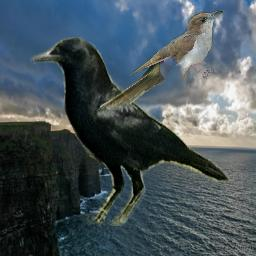Crow: (30, 37, 230, 226)
Cuckoo: (99, 10, 224, 110)
